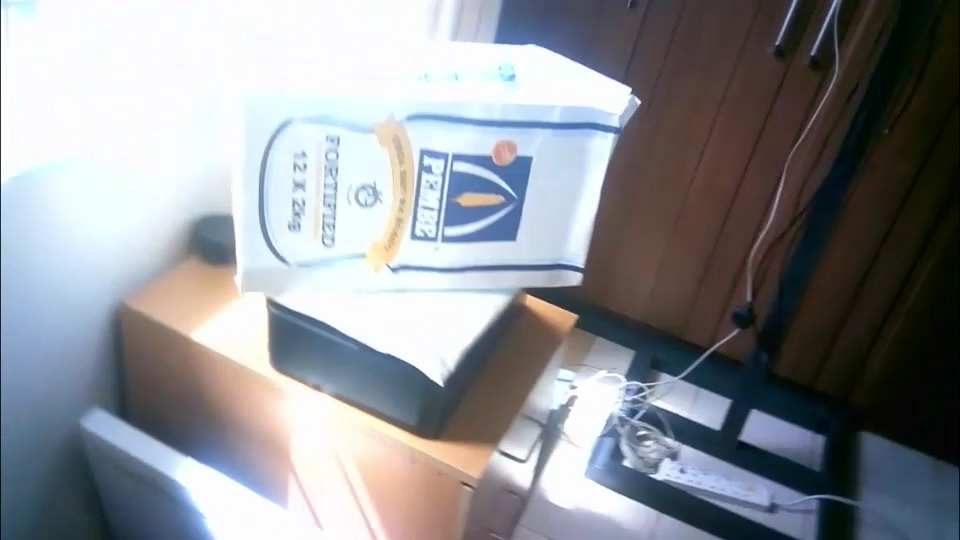wheat_flour_blue_label: (234, 42, 642, 292)
